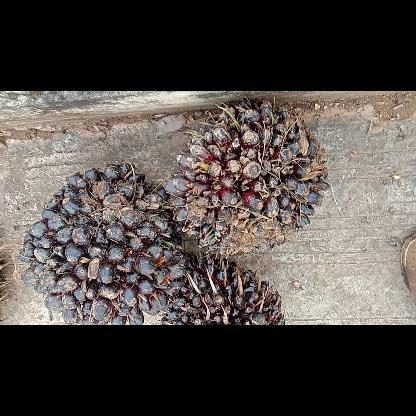TBS mentah: (18, 158, 192, 324), (161, 100, 331, 256), (162, 252, 288, 324)
